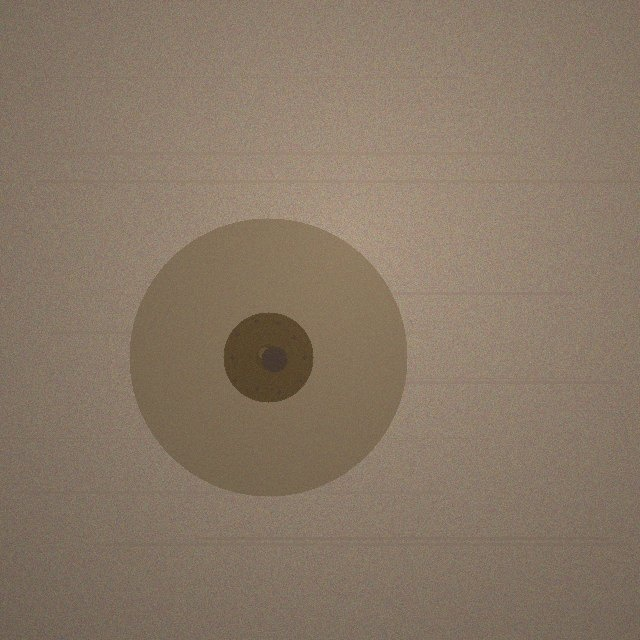cold_weld: (129, 218, 407, 496)
